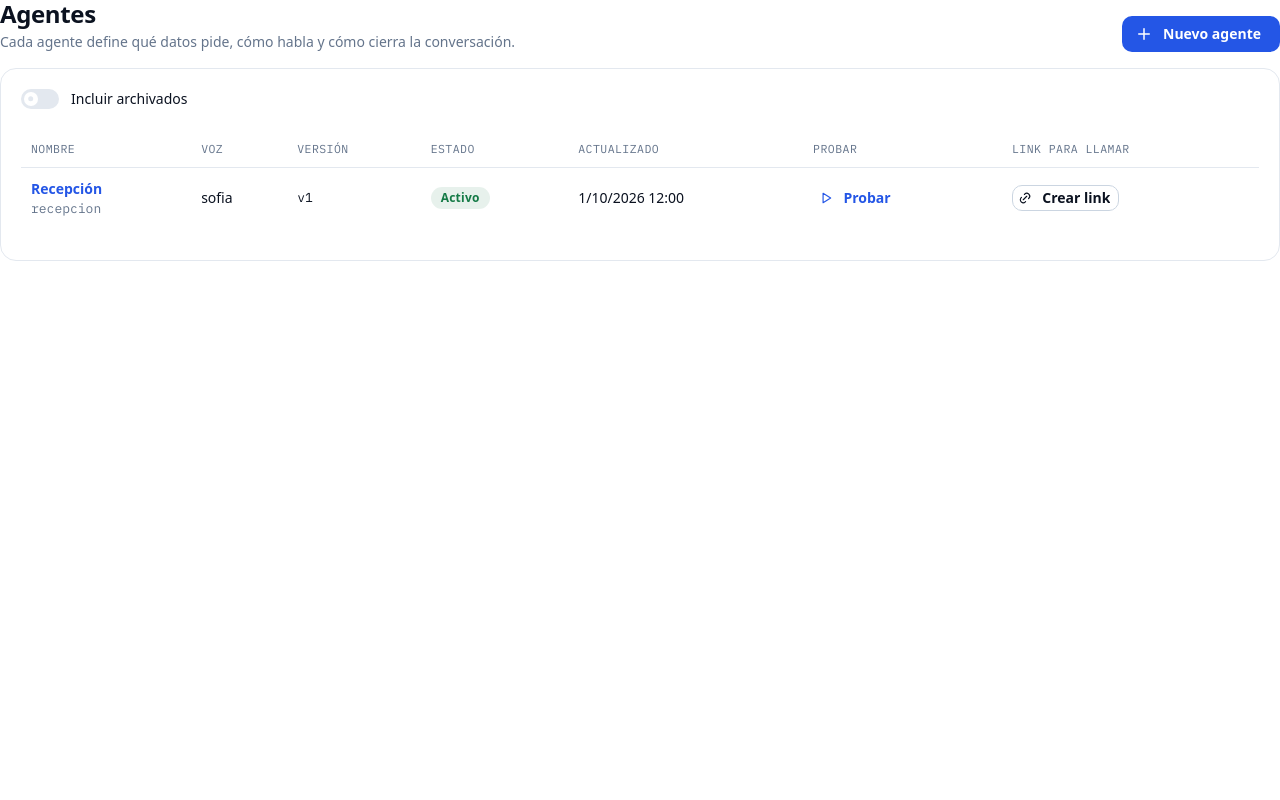
Test: AgentsPage › el alta pide slug y no hay selector de cliente ni motor
Expected: the link "Recepción" is shown, top-left (31, 179), bottom-right (102, 198)
Click the button "Nuevo agente". click: (1201,34)
box: top-left (1122, 16), bottom-right (1279, 52)
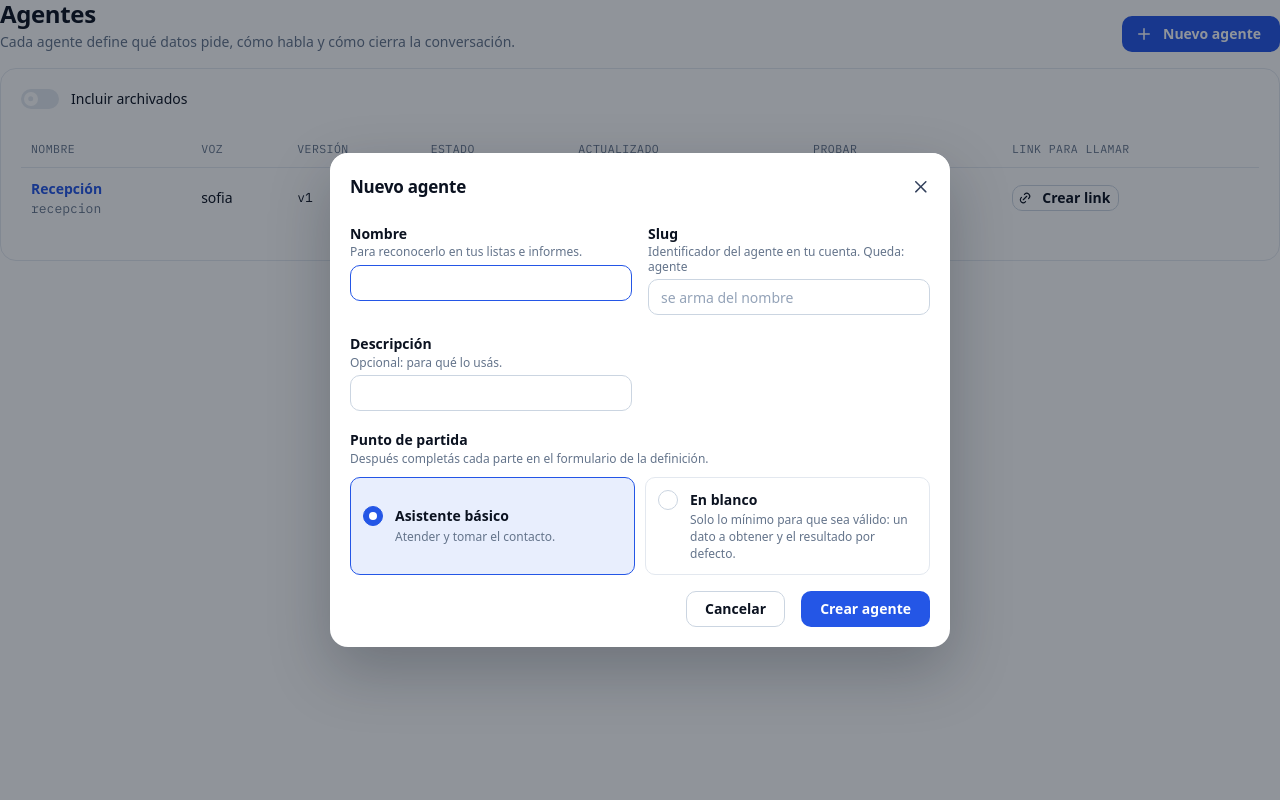
Result: the field labelled "Slug" is shown at top-left (648, 279), bottom-right (930, 315)
